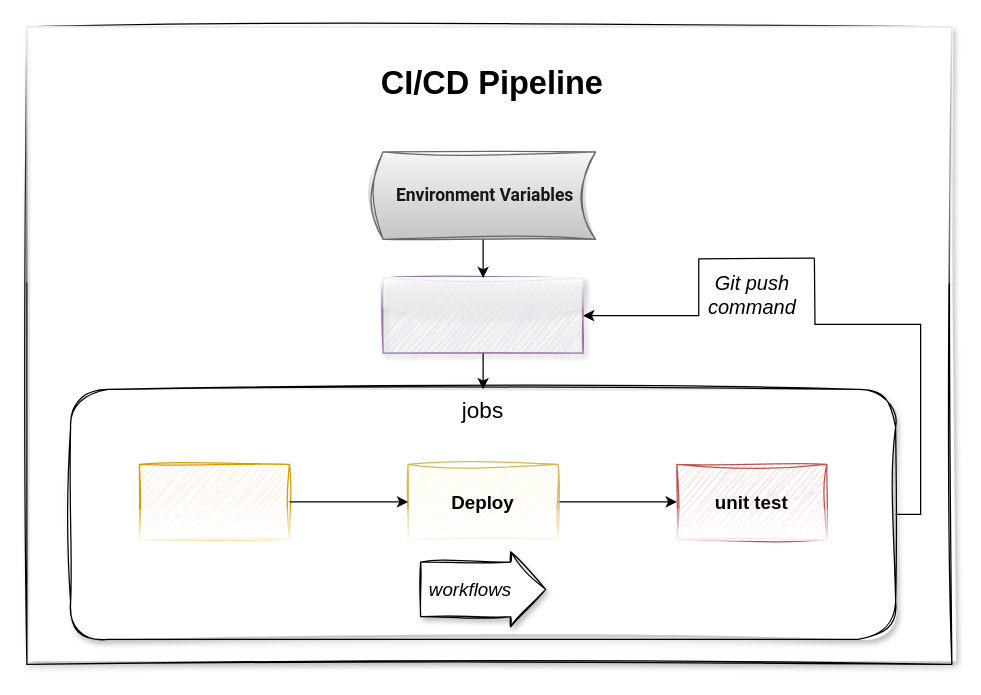
Image size: 981x695. Some labels were removed from this diagram. Here are the shapes that lost their labels. From the top down, the centre of each, then its label:
At (484,317): "Orbs: node, eb cli, aws cli".
At (213,501): "Build".
